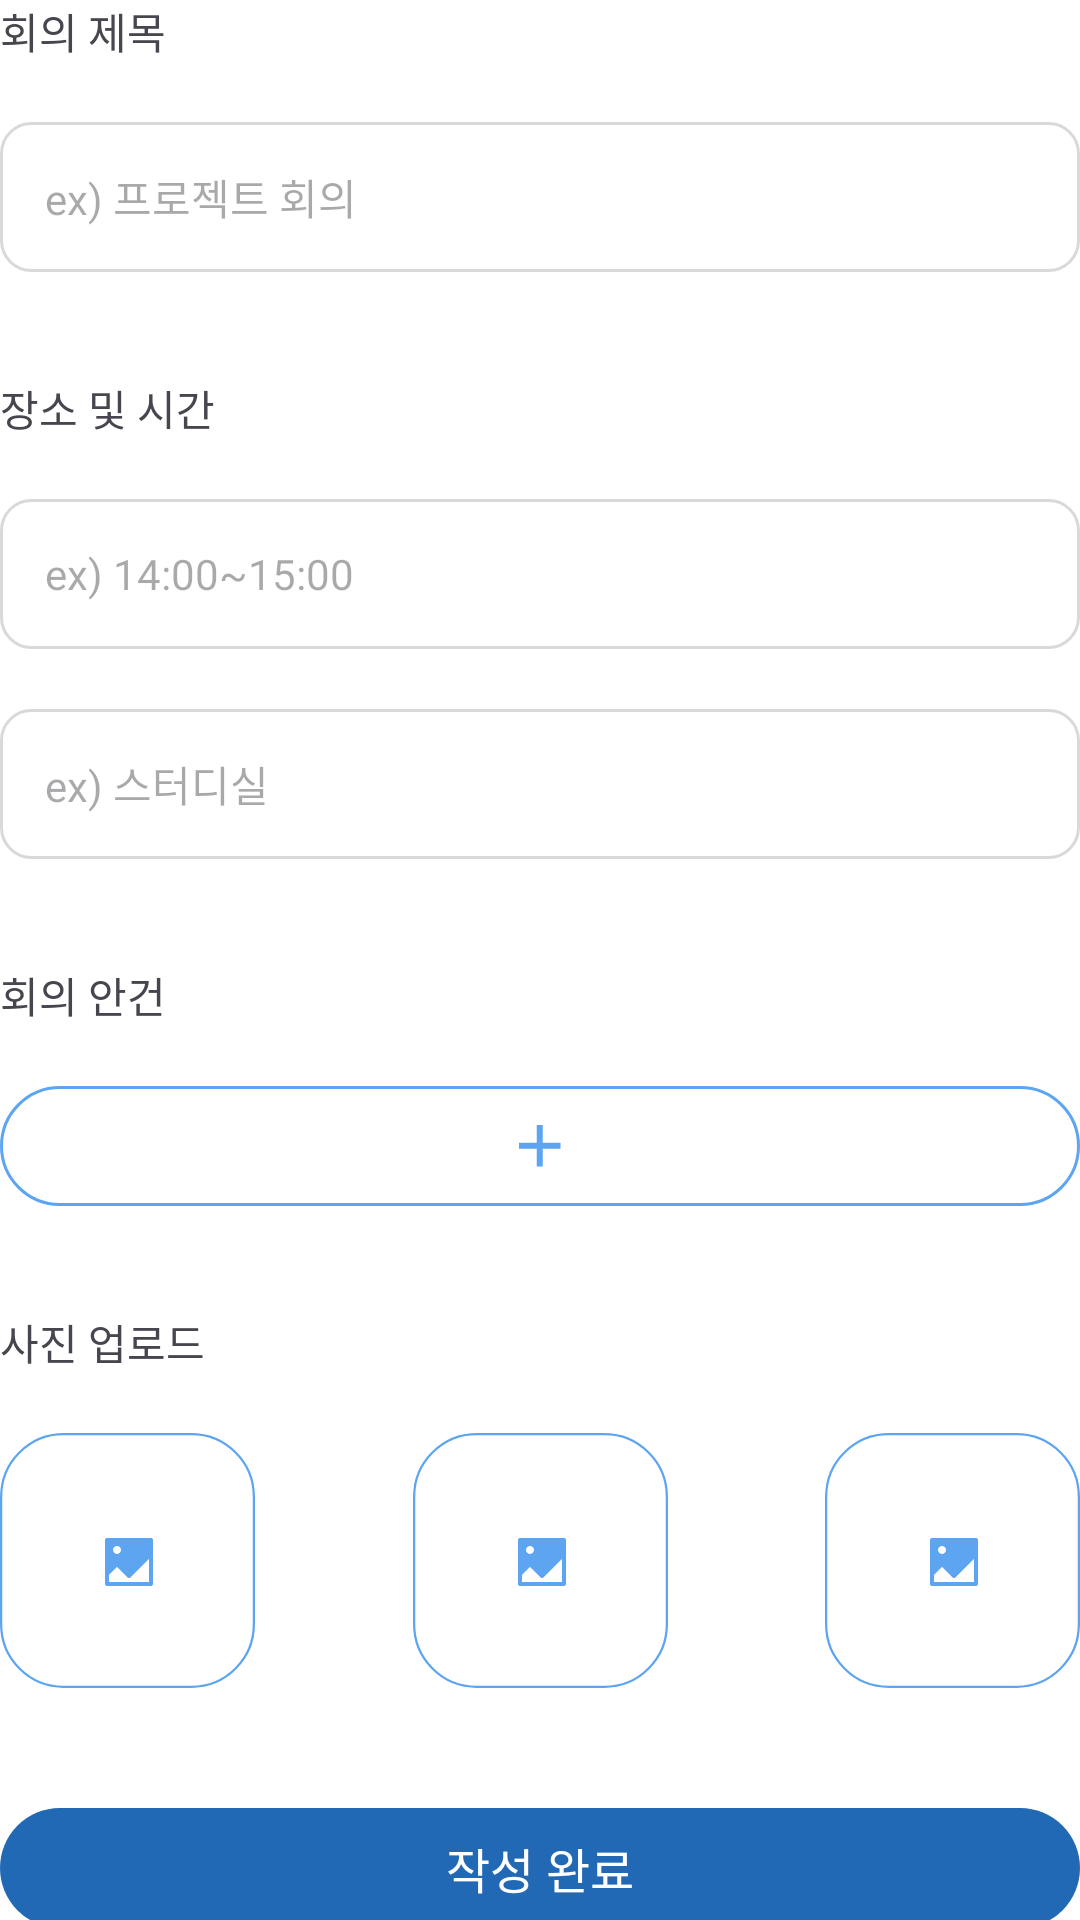

Screen size 1080px×1920px. Icon name, then its center in pixels as point (x, y):
plus: point (540, 1146)
